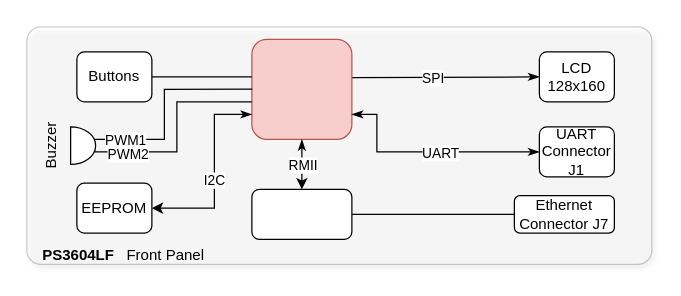
The diagram is 681 pixels wide and 296 high, and some of its shapes have lost their labels. Here are the shapes that lost their labels. From the top down, the centre of each, then its label:
At (x=301, y=88): "STM32F407".
At (x=301, y=213): "LAN8720".
